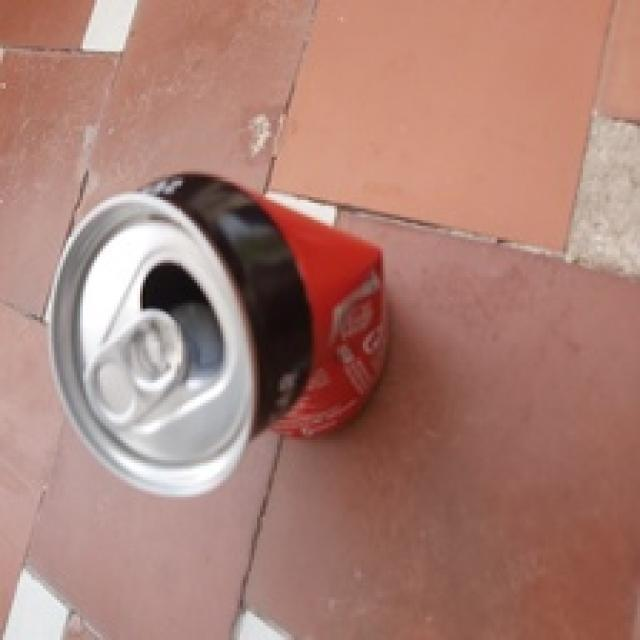recyclable: (44, 170, 384, 494)
